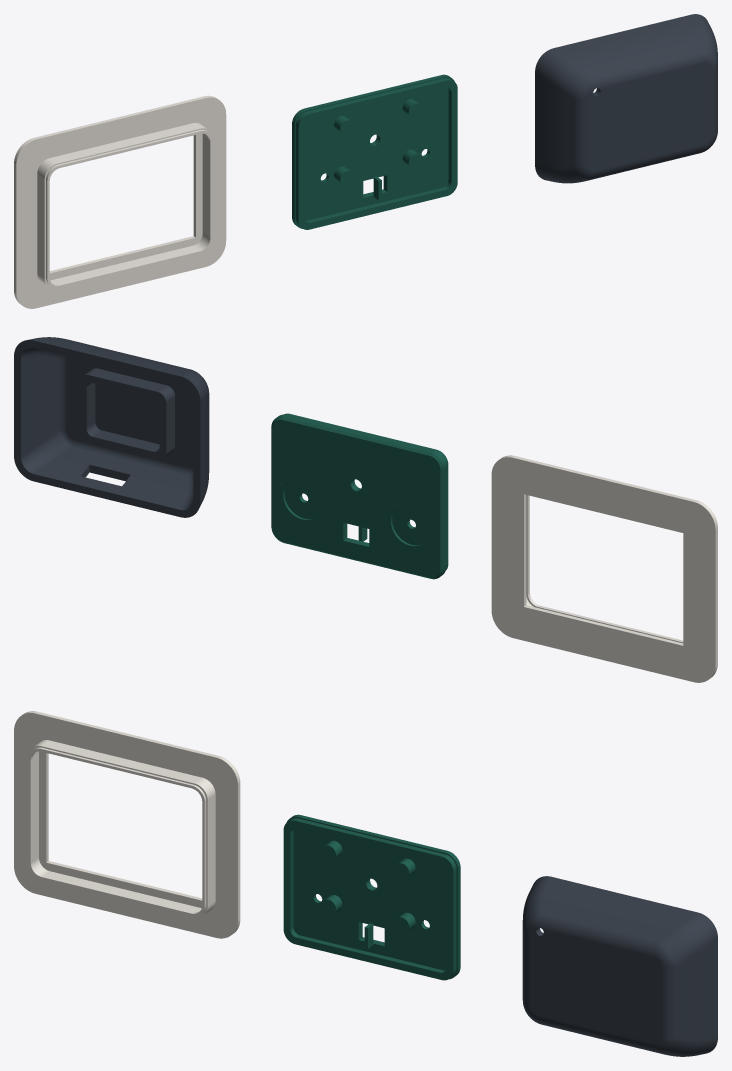
Rendered from MindMap-Patch-colored.glb.
The picture shows the model from 3 angles, top to bottom: view 1: azimuth 30°, elevation 25°; view 2: azimuth 150°, elevation 25°; view 3: azimuth 330°, elevation 25°; orthographic projection. The views are drawn at different scales.
Visible parts, largest first — view 1: ElectronicsPod, AdhesiveBase, SensorBoard; view 2: ElectronicsPod, AdhesiveBase, SensorBoard; view 3: ElectronicsPod, AdhesiveBase, SensorBoard.
Part boxes in pixels (left/top/right/bottom): ElectronicsPod: left=535, top=14, right=717, bottom=183; AdhesiveBase: left=14, top=95, right=226, bottom=308; SensorBoard: left=292, top=74, right=457, bottom=229; ElectronicsPod: left=14, top=337, right=209, bottom=517; AdhesiveBase: left=491, top=455, right=717, bottom=682; SensorBoard: left=271, top=413, right=448, bottom=579; ElectronicsPod: left=522, top=876, right=717, bottom=1056; AdhesiveBase: left=14, top=711, right=240, bottom=938; SensorBoard: left=283, top=814, right=460, bottom=980.
Bounding box in the file's own units: 168 × 40 × 19.85.
